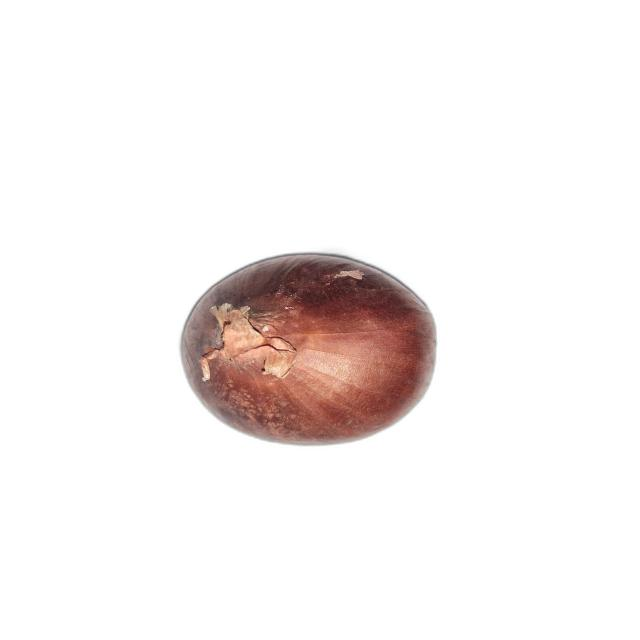onion: (182, 253, 436, 446)
